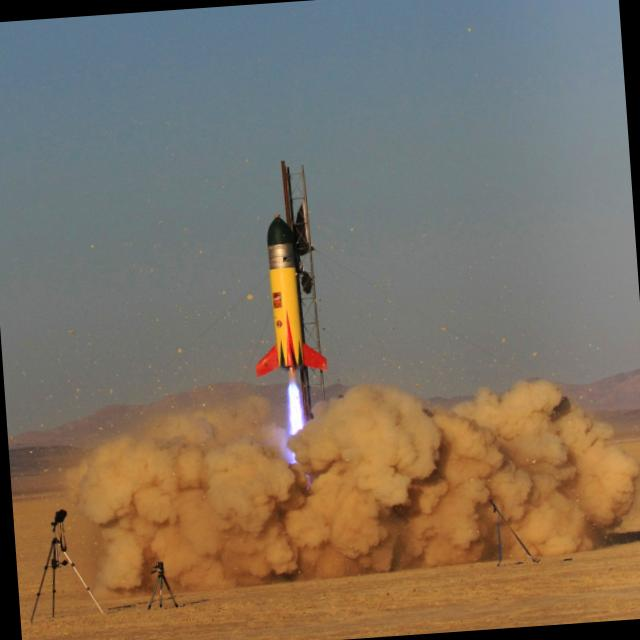rocket: (241, 212, 334, 457)
